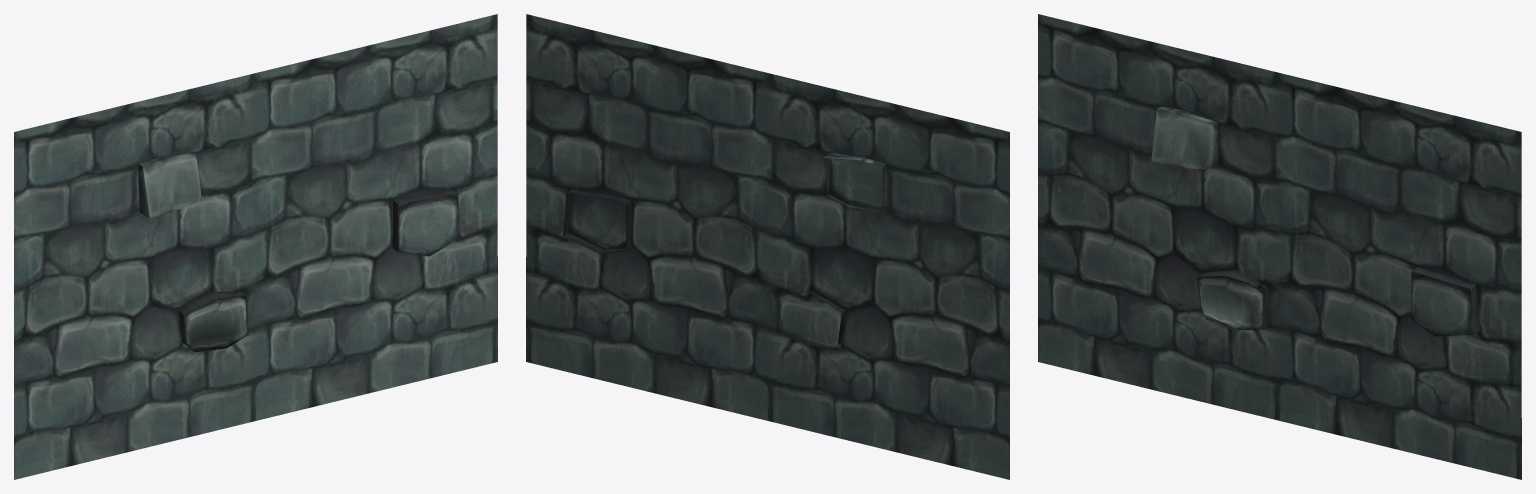
File: crypt_half_straight_03.fbx
3 views of the same model, side by side, from view 1: azimuth 30°, elevation 25°; view 2: azimuth 150°, elevation 25°; view 3: azimuth 330°, elevation 25° (orthographic).
Parts seen in each view (by area): view 1: crypt_half_straight_03-0; view 2: crypt_half_straight_03-0; view 3: crypt_half_straight_03-0.
Part boxes in pixels (box(x1,y1,x2,y2)): crypt_half_straight_03-0: box(14, 14, 497, 479); crypt_half_straight_03-0: box(526, 14, 1009, 479); crypt_half_straight_03-0: box(1038, 14, 1521, 479).
Size of the model in its own units: 4 by 2.75 by 0.2406.
